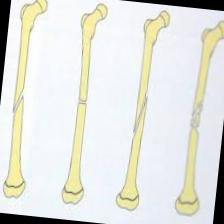open-compound-fracture: (176, 13, 224, 218)
